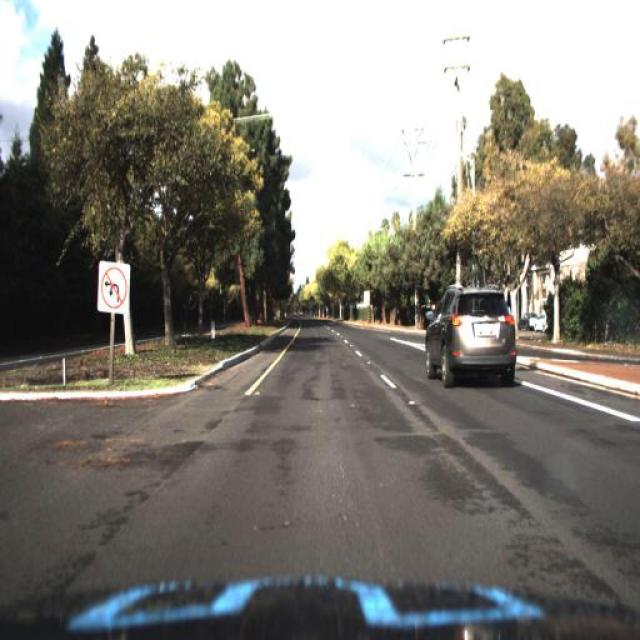car: (423, 284, 518, 388), (534, 313, 550, 337), (518, 308, 532, 333)
